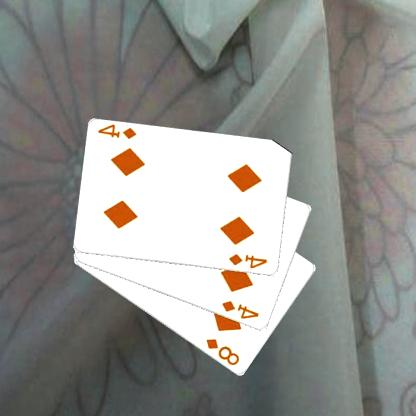4D: (221, 298, 262, 321), (228, 251, 271, 270), (98, 122, 140, 141)
8D: (205, 336, 242, 367)
